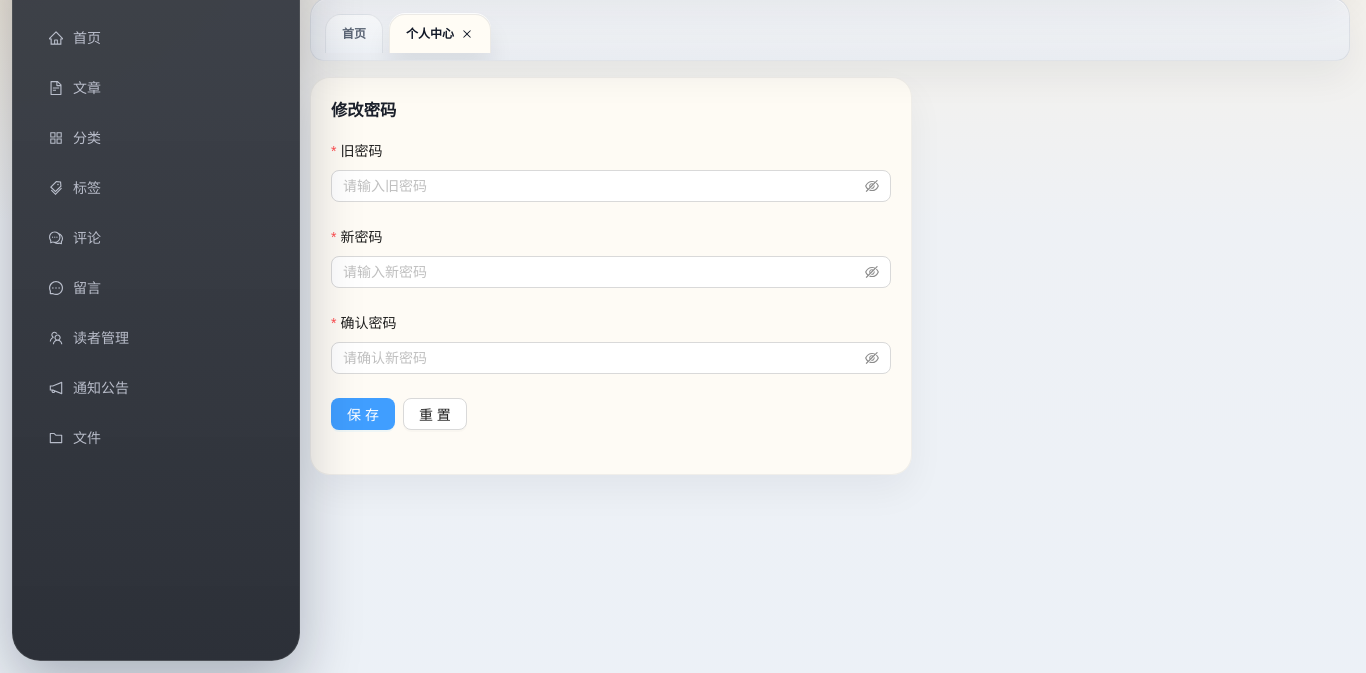
Test: change password › requires all fields
Check: the heading "修改密码" is shown, box [331,100,396,120]
What coordinates should you click on to do the following:
click the button "保 存"
I would click on:
 (363, 414)
Its box is [331,398,395,430].
(page scrolled)
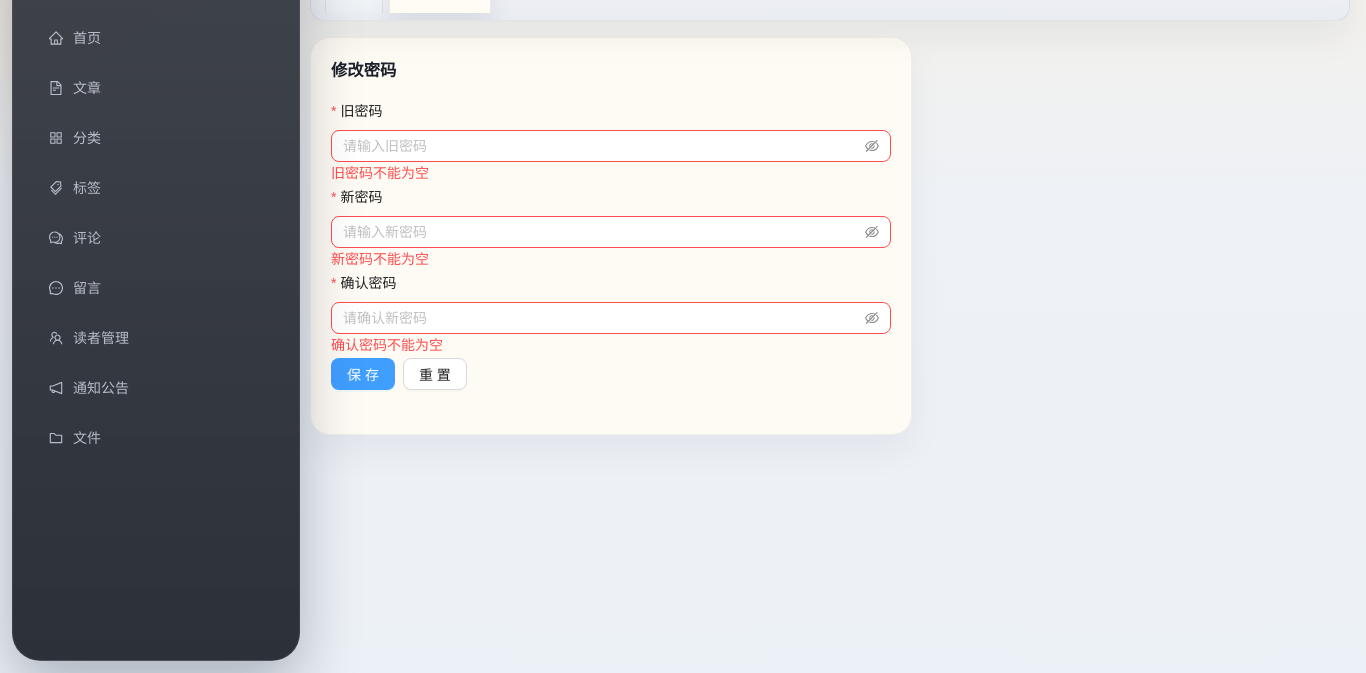
Check: the text "旧密码不能为空" is shown, box [331,164,429,181]
Check: the text "新密码不能为空" is shown, box [331,250,429,267]
Check: the text "确认密码不能为空" is shown, box [331,336,443,353]
